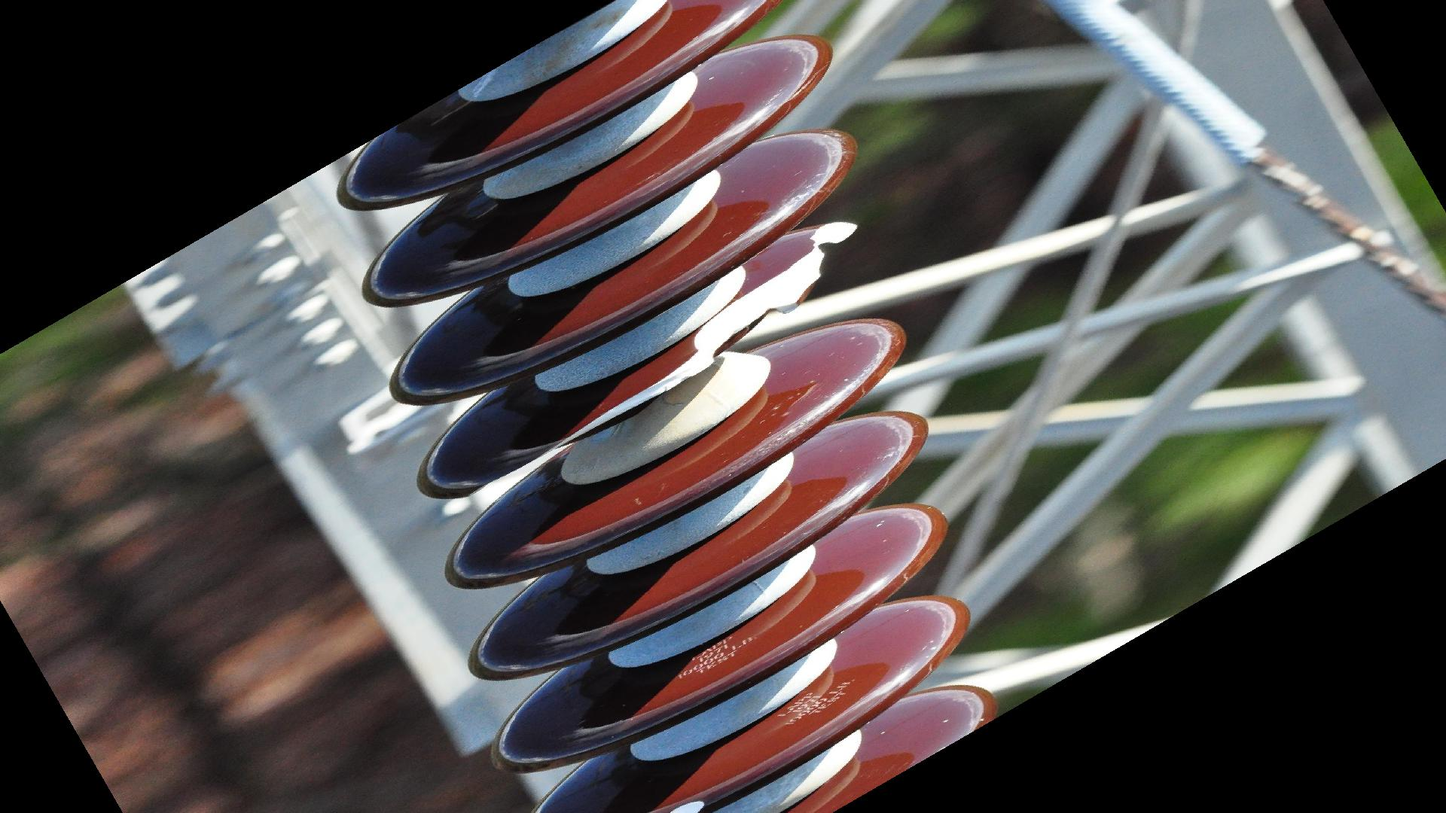insulator: (328, 1, 1008, 813)
insulator_breakage: (451, 212, 861, 497)
